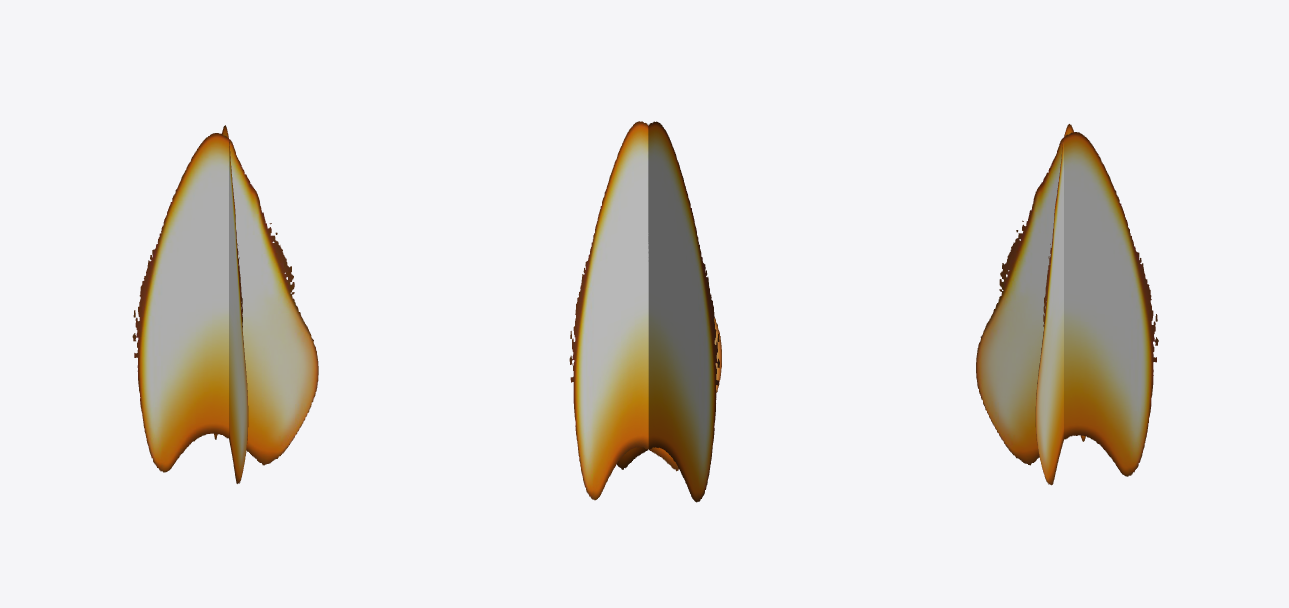
3 renders of one model, left to right at view 1: azimuth 30°, elevation 25°; view 2: azimuth 150°, elevation 25°; view 3: azimuth 270°, elevation 25°, orthographic. The views are drawn at different scales.
Visible parts, largest first — view 1: FlameQuad; view 2: FlameQuad; view 3: FlameQuad.
Part boxes in pixels (x1,y1,x2,y2): FlameQuad: (132,125,318,483); FlameQuad: (569,121,721,502); FlameQuad: (976,124,1158,485).
Bounding box in the file's own units: 6.66 × 7 × 6.66.
